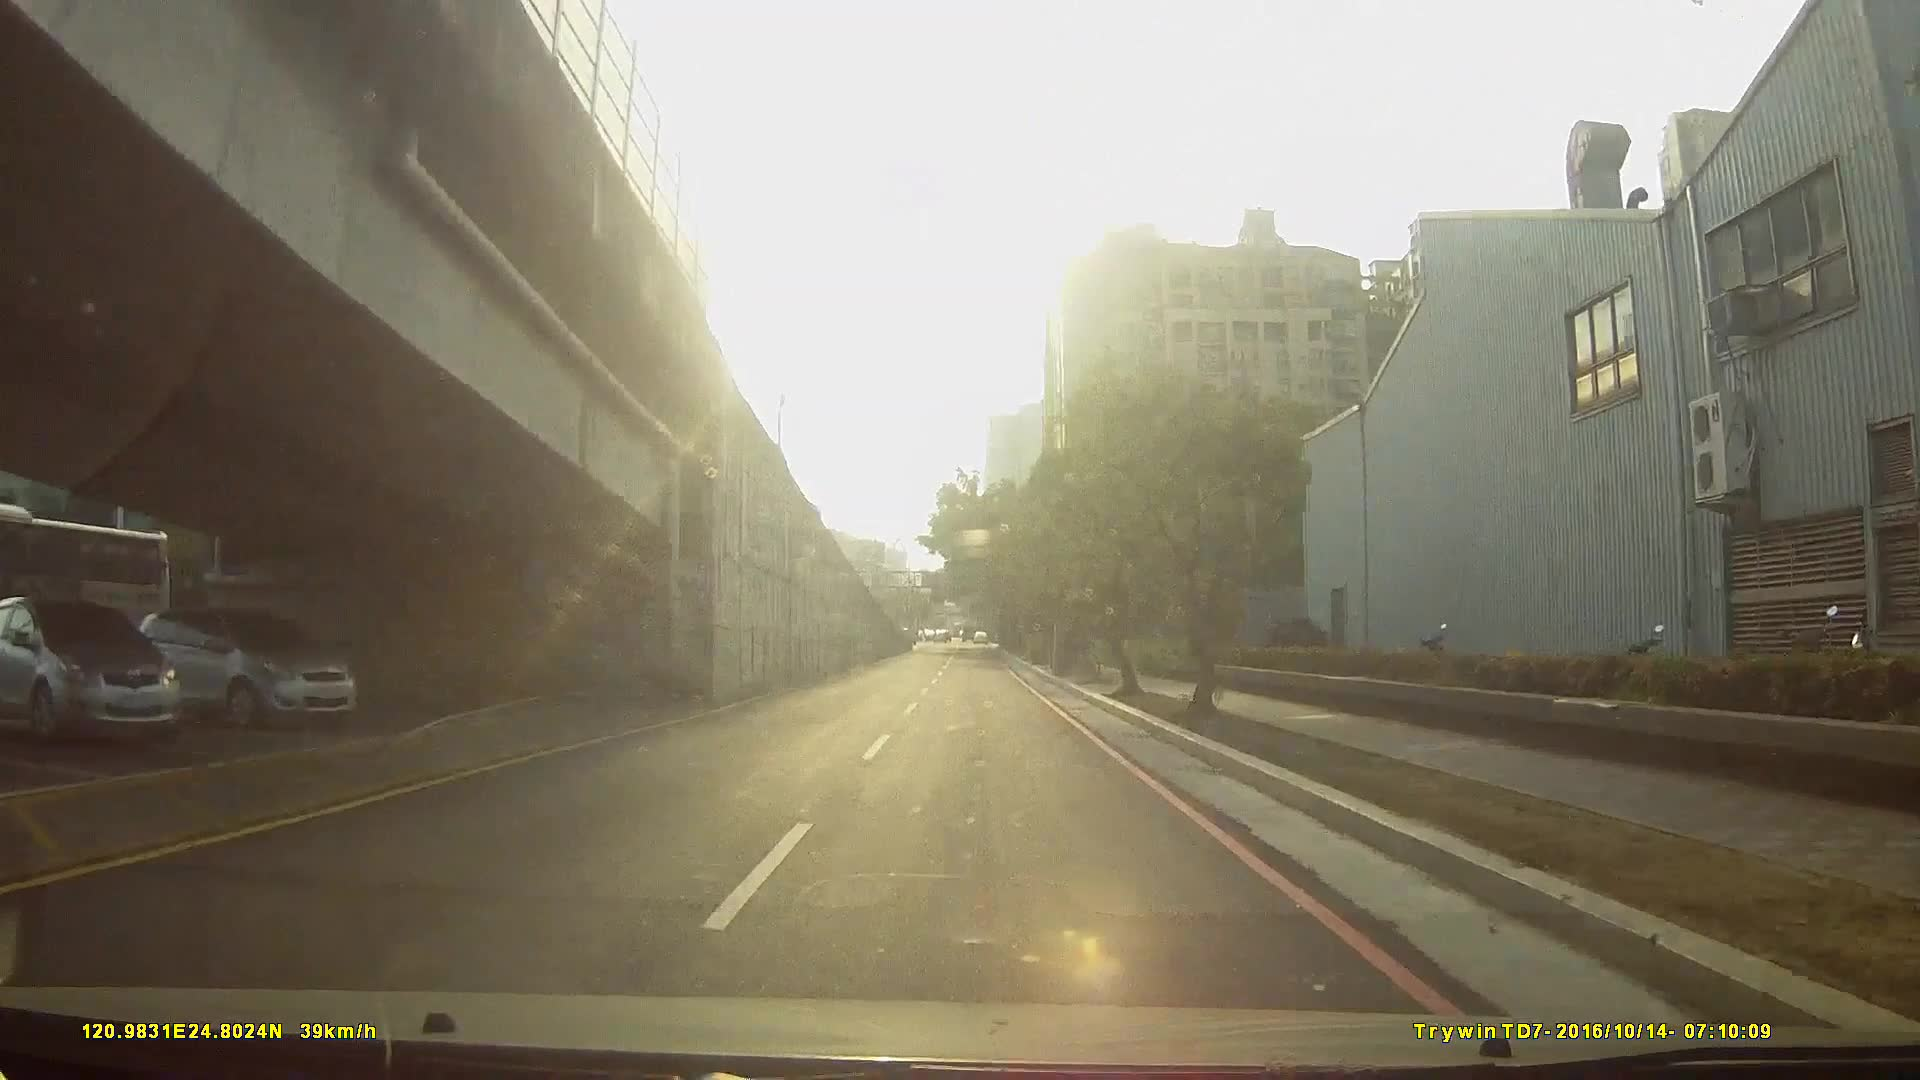vehicle: (1, 502, 182, 694), (113, 603, 369, 731), (1, 592, 185, 742)
